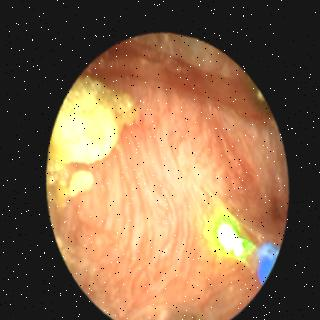fiber: (214, 210, 252, 257)
stone: (48, 76, 135, 207)
tissue: (58, 36, 283, 320)
